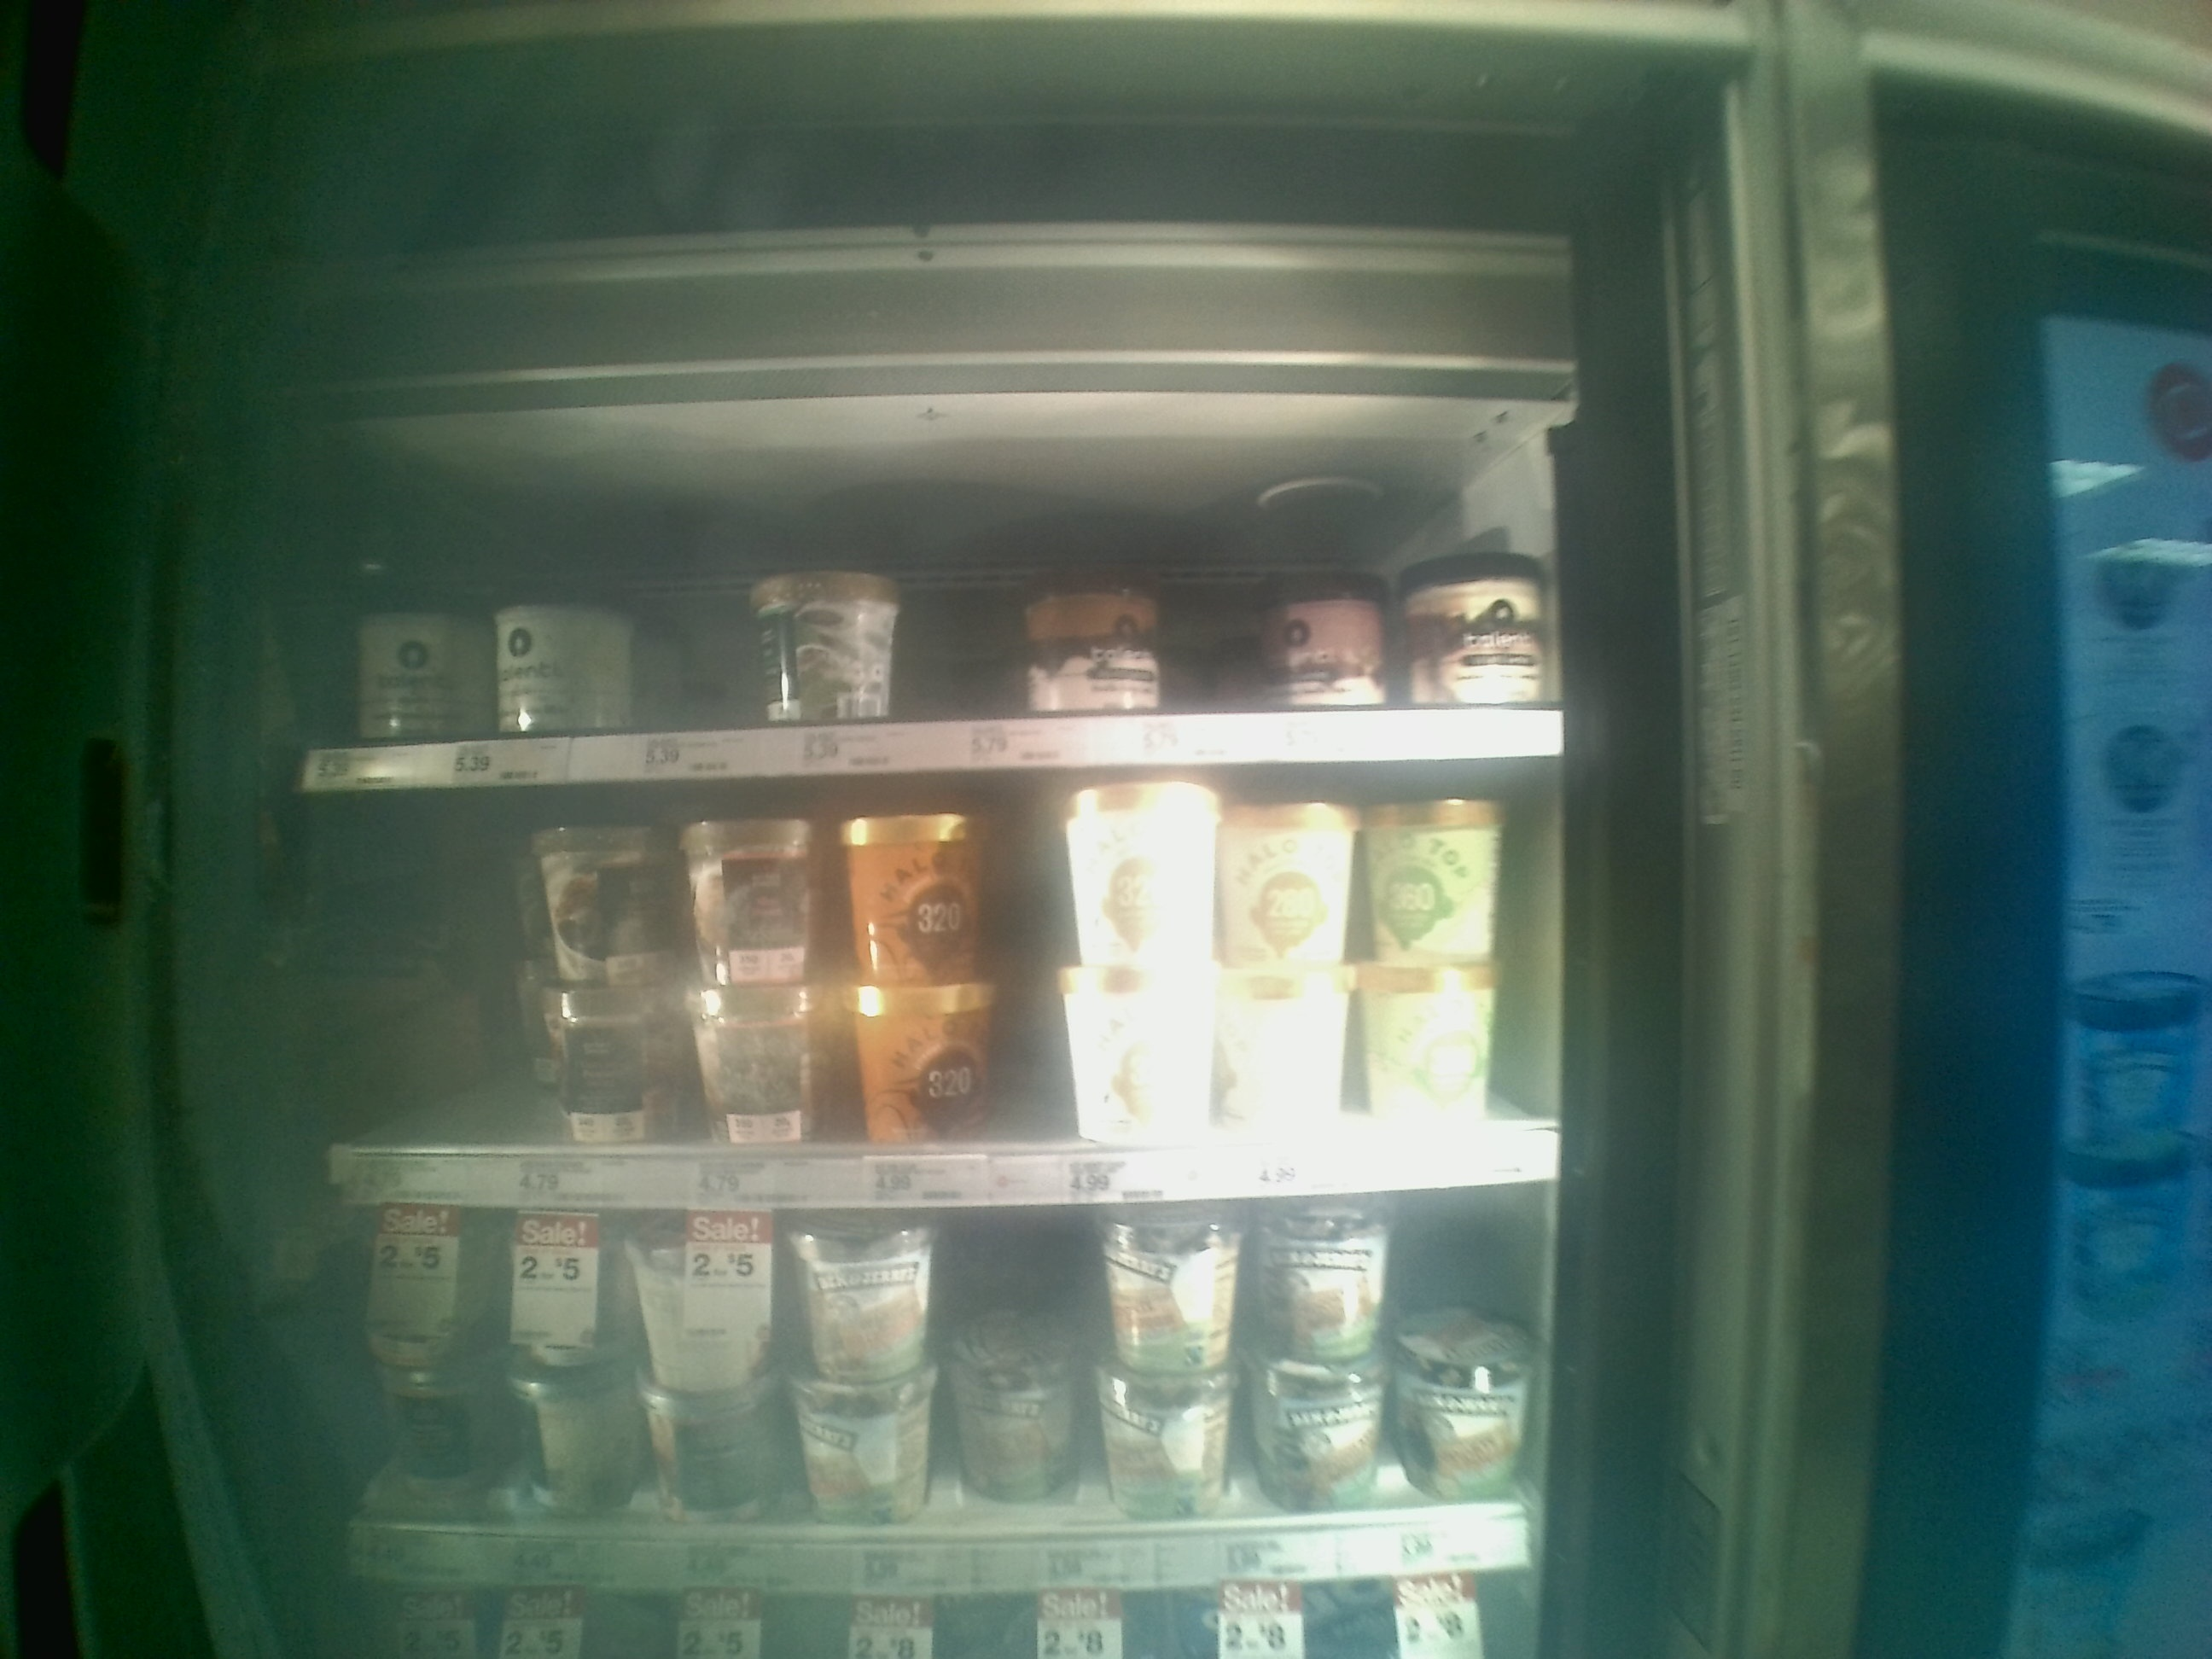shelf: (258, 779, 1561, 1195), (268, 1199, 1548, 1588), (244, 441, 1575, 772)
